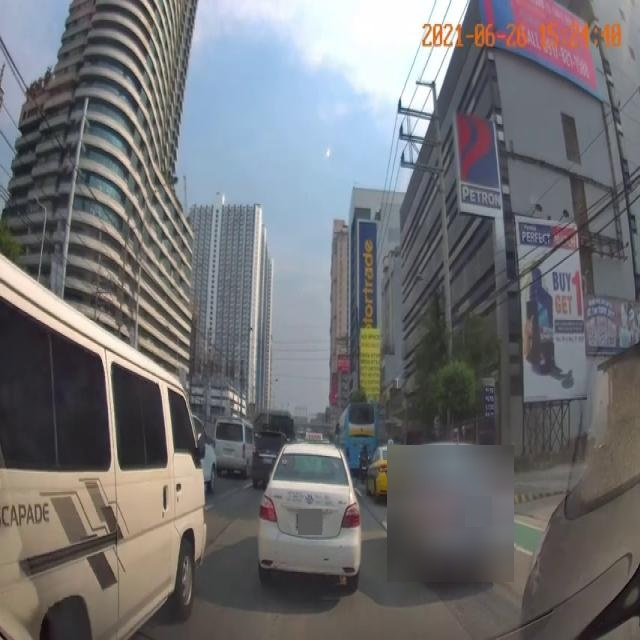bus: (336, 404, 378, 476)
car: (0, 263, 204, 628), (259, 443, 367, 585), (210, 414, 255, 476)
